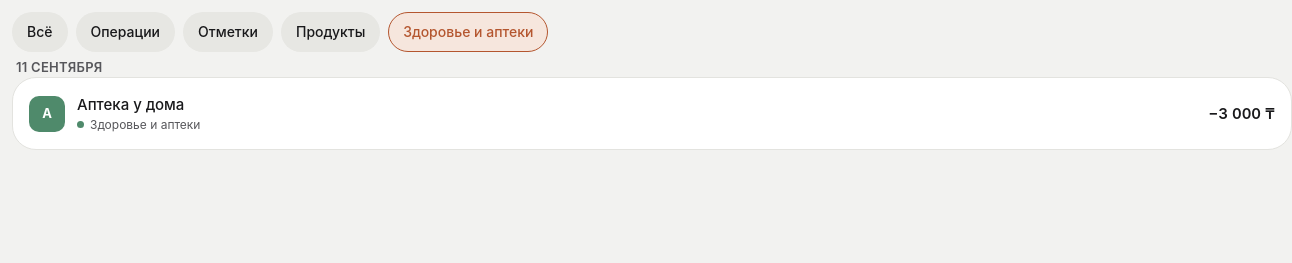
Test: RZ-08: раздел по адресу `?cat=<id>` («Открыть» совета про продавца) › чип раздела выбран, лента — его покупки; «Всё» снимает параметр и фильтр
This screenshot has width=1292, height=263.
Expected: the text "Магазин" is not shown
Click the button "Всё": {"x": 40, "y": 32} [12,12,68,52]
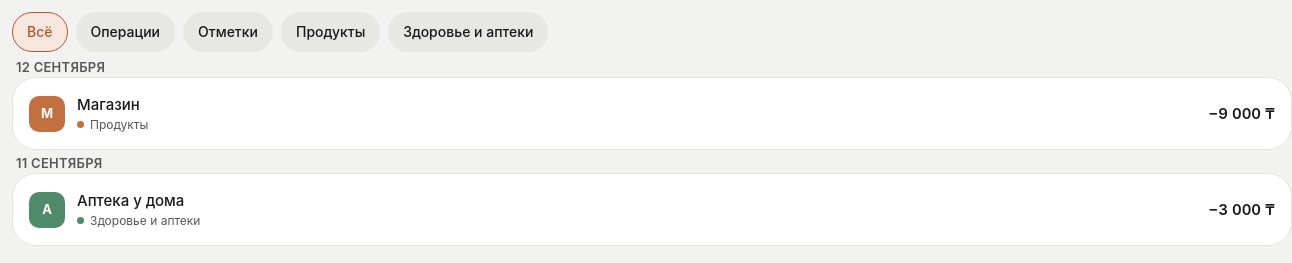
Expected: the text "Магазин" is shown, [77,94,140,116]
